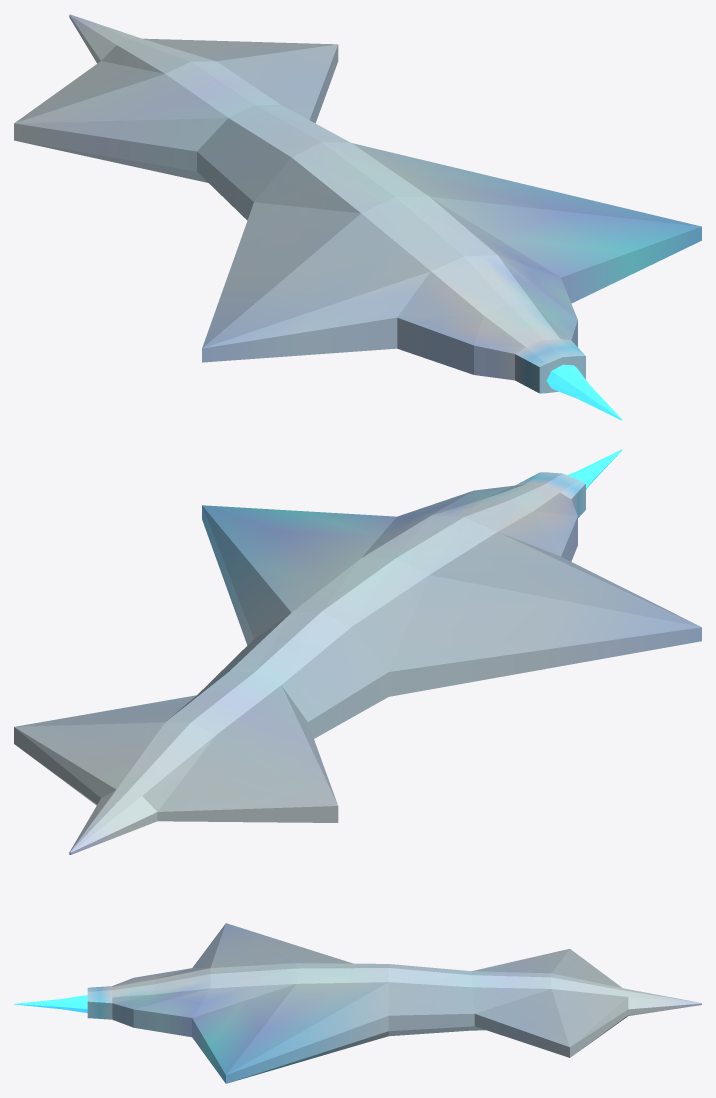
Rendered from 03_zerstoerer.glb.
3 views of the same model, one above another, from view 1: azimuth 30°, elevation 25°; view 2: azimuth 150°, elevation 25°; view 3: azimuth 270°, elevation 25° (orthographic). The views are drawn at different scales.
Visible parts, largest first — view 1: Hull, FX_drive; view 2: Hull; view 3: Hull, FX_drive.
Part boxes in pixels (x1,y1,x2,y2): Hull: [14, 14, 701, 393]; FX_drive: [546, 364, 622, 420]; Hull: [14, 472, 701, 854]; Hull: [87, 923, 701, 1083]; FX_drive: [14, 995, 87, 1012].
Size of the model in its own units: 6.8 by 1.36 by 13.
